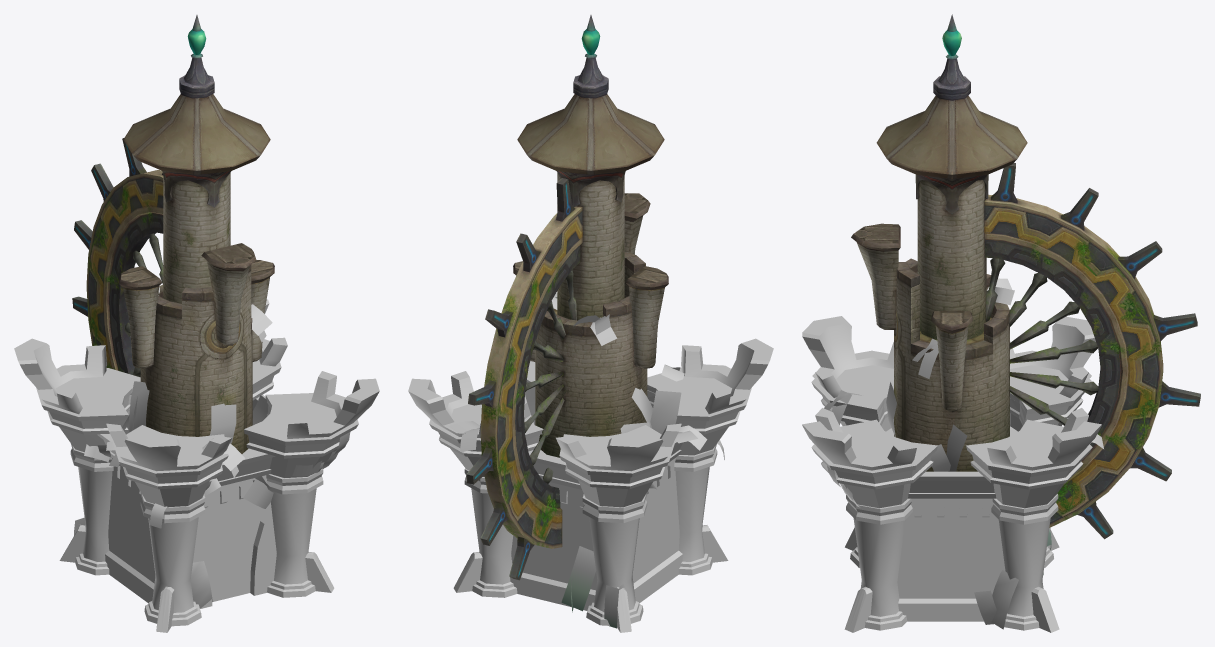
File: House003.fbx
3 renders of one model, left to right at view 1: azimuth 30°, elevation 25°; view 2: azimuth 150°, elevation 25°; view 3: azimuth 270°, elevation 25°, orthographic. The views are drawn at different scales.
Visible parts, largest first — view 1: UB261, UB26102, nodirectionlight_13; view 2: UB26102, UB261, nodirectionlight_13; view 3: UB26102, UB261, nodirectionlight_13.
Boxes of the visible parts, x1=… form: UB261: x1=14, y1=299, x2=379, y2=632; UB26102: x1=72, y1=15, x2=274, y2=453; nodirectionlight_13: x1=74, y1=287, x2=350, y2=608; UB26102: x1=466, y1=15, x2=668, y2=580; UB261: x1=408, y1=293, x2=773, y2=632; nodirectionlight_13: x1=448, y1=296, x2=724, y2=628; UB26102: x1=851, y1=14, x2=1200, y2=539; UB261: x1=802, y1=316, x2=1101, y2=632; nodirectionlight_13: x1=824, y1=278, x2=1103, y2=629.
Size of the model in its own units: 17.12 by 36.85 by 23.06.
